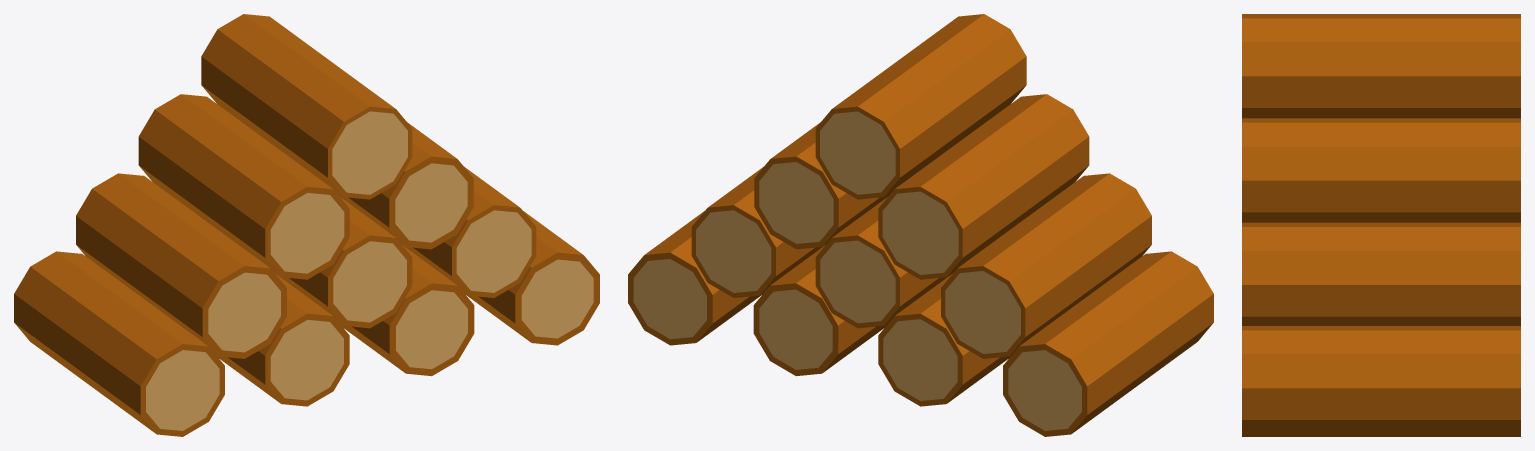
File: firewood.fbx
The picture shows the model from 3 angles, left to right: view 1: azimuth 30°, elevation 25°; view 2: azimuth 150°, elevation 25°; view 3: azimuth 270°, elevation 25°; orthographic projection. The views are drawn at different scales.
Visible parts, largest first — view 1: Cylinder.004; view 2: Cylinder.004; view 3: Cylinder.004.
Part boxes in pixels (x1=…): Cylinder.004: x1=14, y1=14, x2=599, y2=436; Cylinder.004: x1=628, y1=14, x2=1213, y2=436; Cylinder.004: x1=1242, y1=14, x2=1520, y2=436.
Size of the model in its own units: 147 by 87.25 by 70.33.
